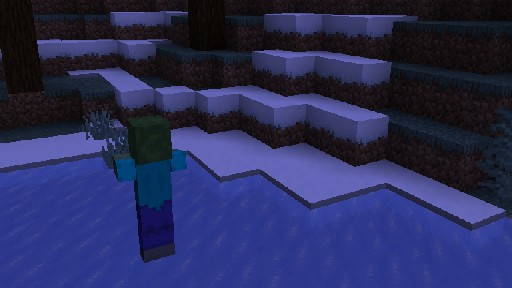zombie: (111, 114, 187, 263)
